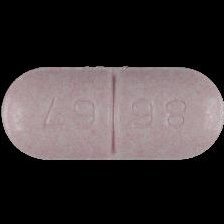55154-3650: (0, 0, 224, 224)
